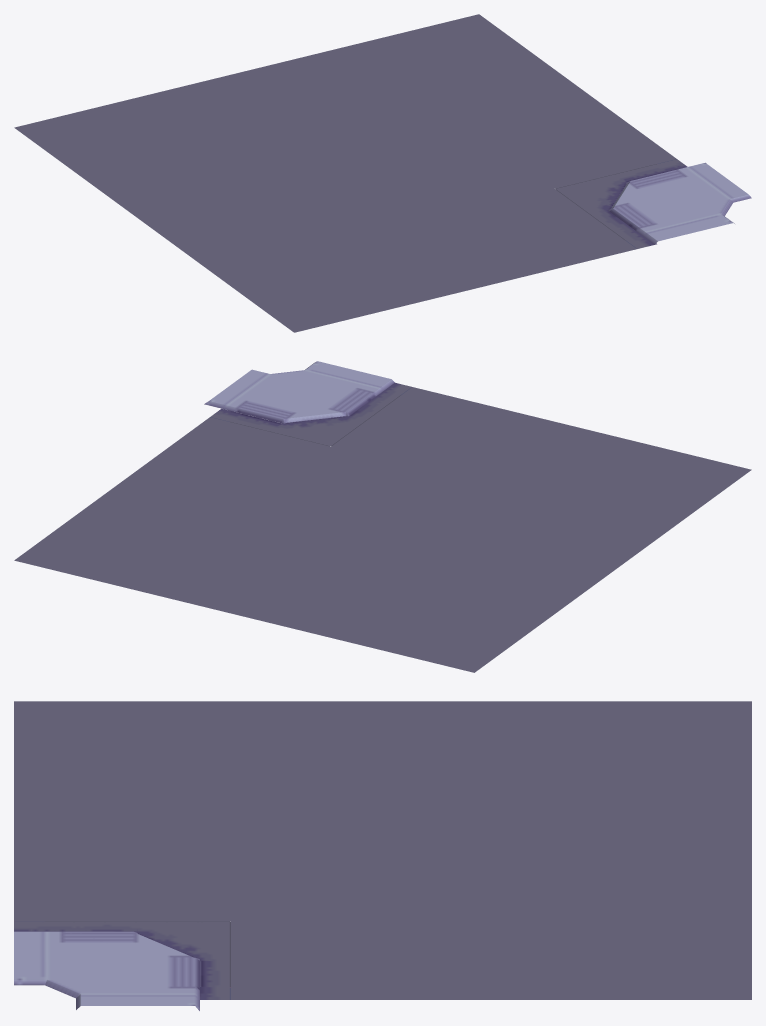
File: TopLeftRoad.fbx
3 views of the same model, one above another, from view 1: azimuth 30°, elevation 25°; view 2: azimuth 150°, elevation 25°; view 3: azimuth 270°, elevation 25° (orthographic). The views are drawn at different scales.
Visible parts, largest first — view 1: Cube.016; view 2: Cube.016; view 3: Cube.016.
Part boxes in pixels (left/top/right/bottom): Cube.016: left=14, top=14, right=751, bottom=332; Cube.016: left=14, top=361, right=751, bottom=672; Cube.016: left=14, top=701, right=751, bottom=1010.
Size of the model in its own units: 592 by 3.14 by 595.
